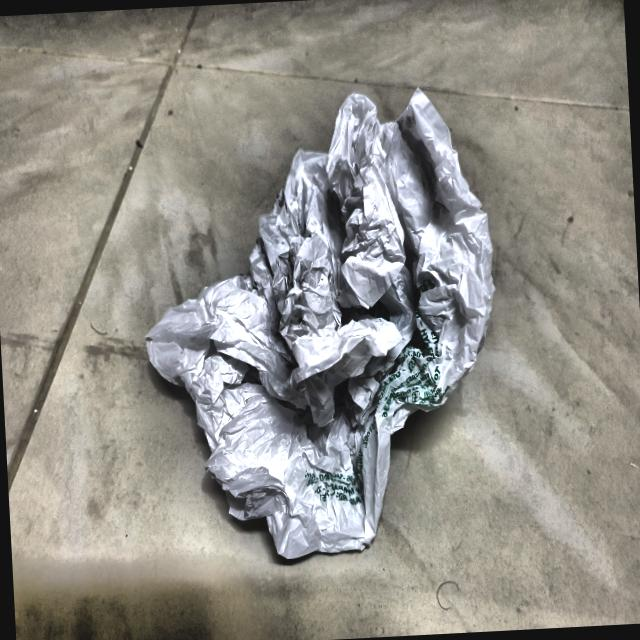plastic bag: (116, 68, 517, 576)
